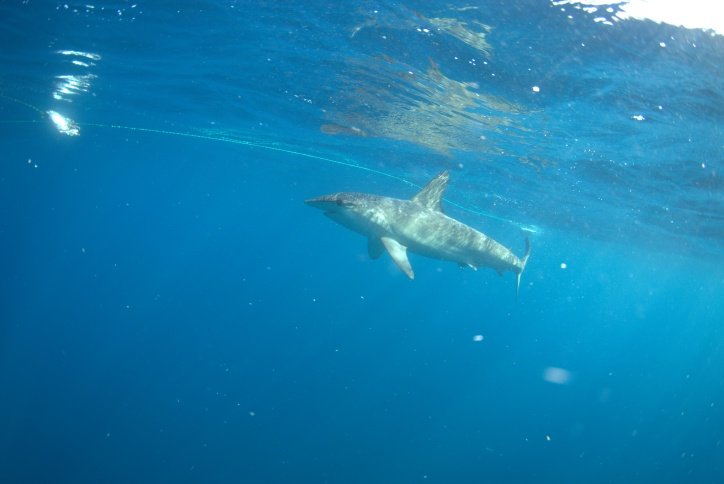Hammer: (282, 165, 654, 326)
